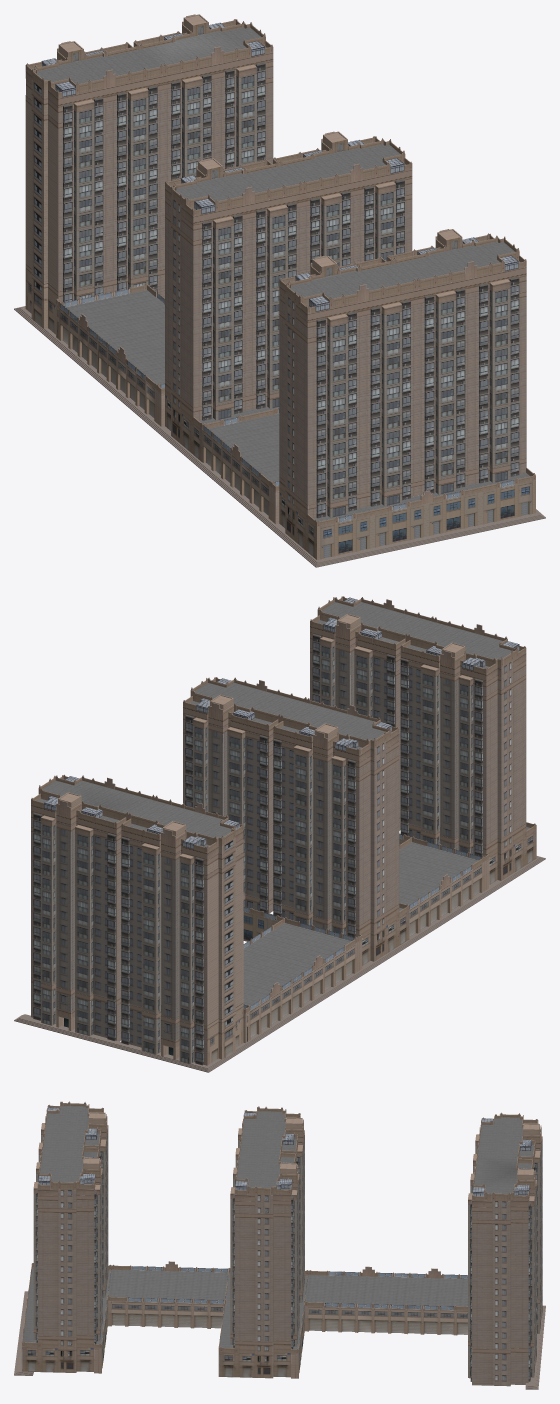
The model's file is GDZX_QY07.FBX.
The picture shows the model from 3 angles, top to bottom: view 1: azimuth 30°, elevation 25°; view 2: azimuth 150°, elevation 25°; view 3: azimuth 270°, elevation 25°; orthographic projection. The views are drawn at different scales.
Parts seen in each view (by area): view 1: GDZX_QY077; view 2: GDZX_QY077; view 3: GDZX_QY077.
Part boxes in pixels (left/top/right/bottom): GDZX_QY077: left=14, top=14, right=545, bottom=567; GDZX_QY077: left=14, top=596, right=545, bottom=1072; GDZX_QY077: left=14, top=1101, right=545, bottom=1389.
Size of the model in its own units: 6049 by 5706 by 13915.
8 materials, 8 textured.
